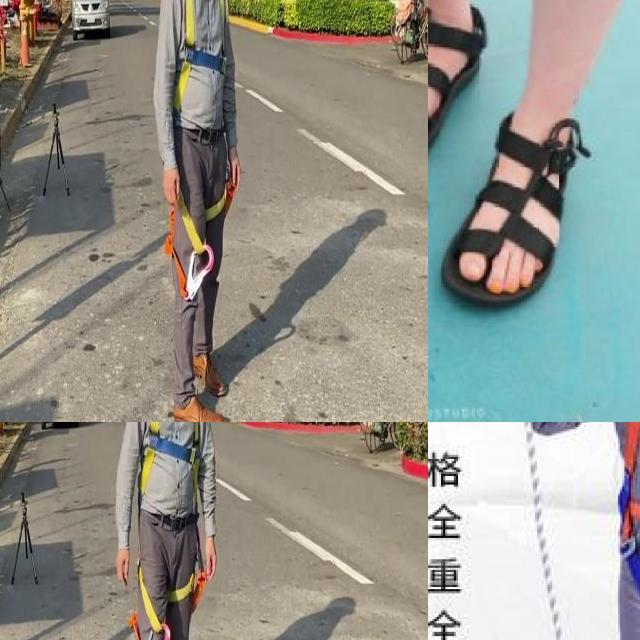Harness: (174, 0, 226, 112), (165, 194, 215, 302), (141, 422, 200, 498), (139, 564, 172, 640)
Sandals: (440, 101, 578, 307), (428, 0, 487, 163)
